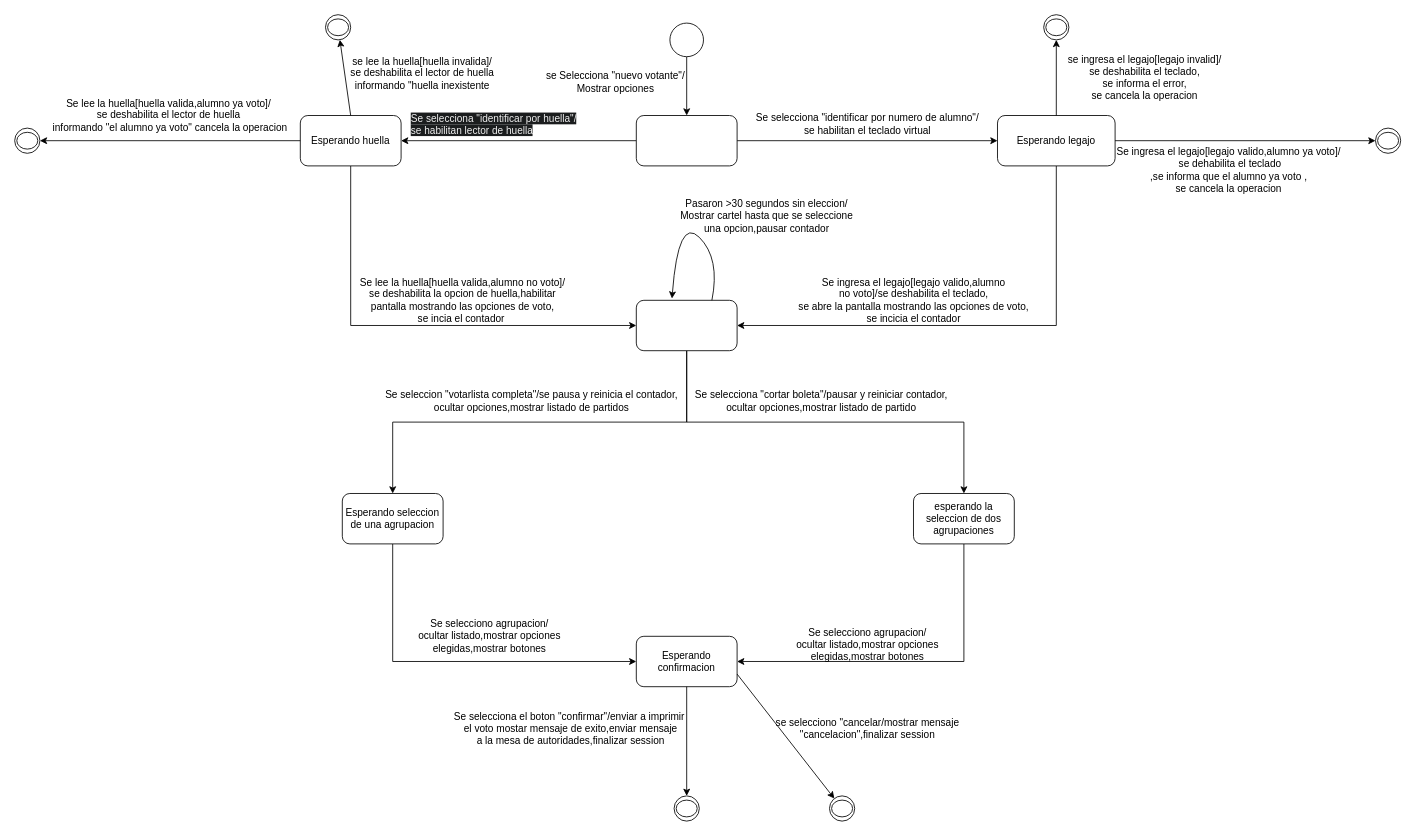
Image size: 1415x836. Some labels were removed from this diagram. Here are the shapes that lost their labels. From the top down, the centre of each, then its label:
At (686,140): "Esperando seleccion de identificacion".
At (686,325): "Esperando seleccion del voto".
